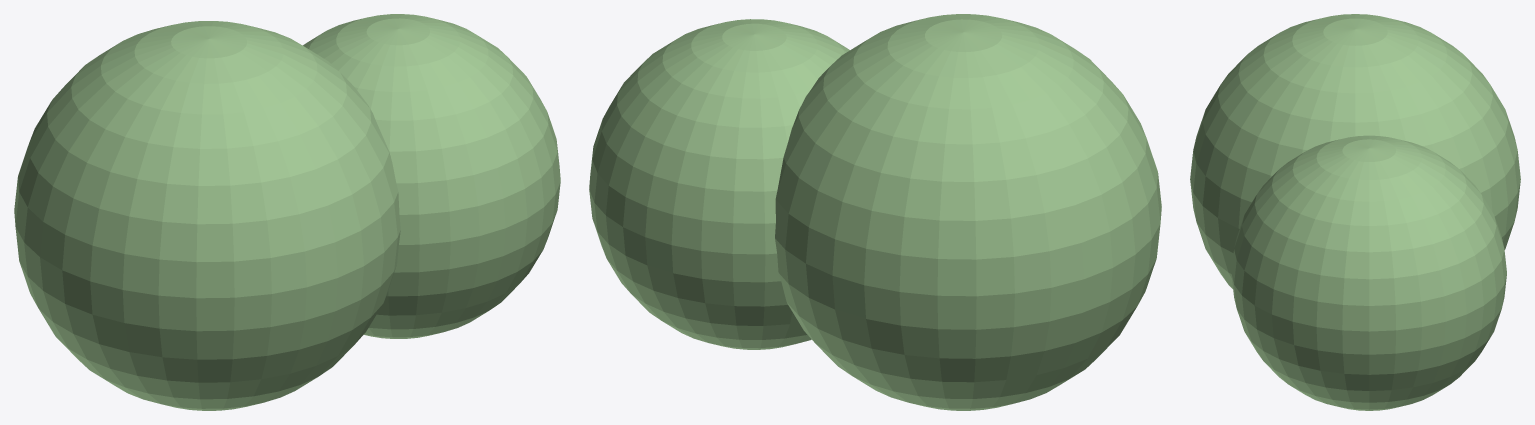
File: MOD_BUSH_NATIVE_STANDARD_001_LOD_GAMEPLAY.glb
The picture shows the model from 3 angles, left to right: view 1: azimuth 30°, elevation 25°; view 2: azimuth 150°, elevation 25°; view 3: azimuth 270°, elevation 25°; orthographic projection. The views are drawn at different scales.
Visible parts, largest first — view 1: MOD_BUSH_NATIVE_STANDARD_001_GAMEPLAY_CLUSTER_01, MOD_BUSH_NATIVE_STANDARD_001_GAMEPLAY_CLUSTER_02; view 2: MOD_BUSH_NATIVE_STANDARD_001_GAMEPLAY_CLUSTER_01, MOD_BUSH_NATIVE_STANDARD_001_GAMEPLAY_CLUSTER_02; view 3: MOD_BUSH_NATIVE_STANDARD_001_GAMEPLAY_CLUSTER_02, MOD_BUSH_NATIVE_STANDARD_001_GAMEPLAY_CLUSTER_01.
Boxes of the visible parts, box(x1,y1,x2,y2) form: MOD_BUSH_NATIVE_STANDARD_001_GAMEPLAY_CLUSTER_01: box(14, 21, 400, 410); MOD_BUSH_NATIVE_STANDARD_001_GAMEPLAY_CLUSTER_02: box(303, 14, 560, 338); MOD_BUSH_NATIVE_STANDARD_001_GAMEPLAY_CLUSTER_01: box(775, 14, 1161, 410); MOD_BUSH_NATIVE_STANDARD_001_GAMEPLAY_CLUSTER_02: box(589, 19, 849, 349); MOD_BUSH_NATIVE_STANDARD_001_GAMEPLAY_CLUSTER_02: box(1231, 135, 1506, 410); MOD_BUSH_NATIVE_STANDARD_001_GAMEPLAY_CLUSTER_01: box(1190, 14, 1520, 289).
Bounding box in the file's own units: 0.72 × 0.48 × 0.48.
